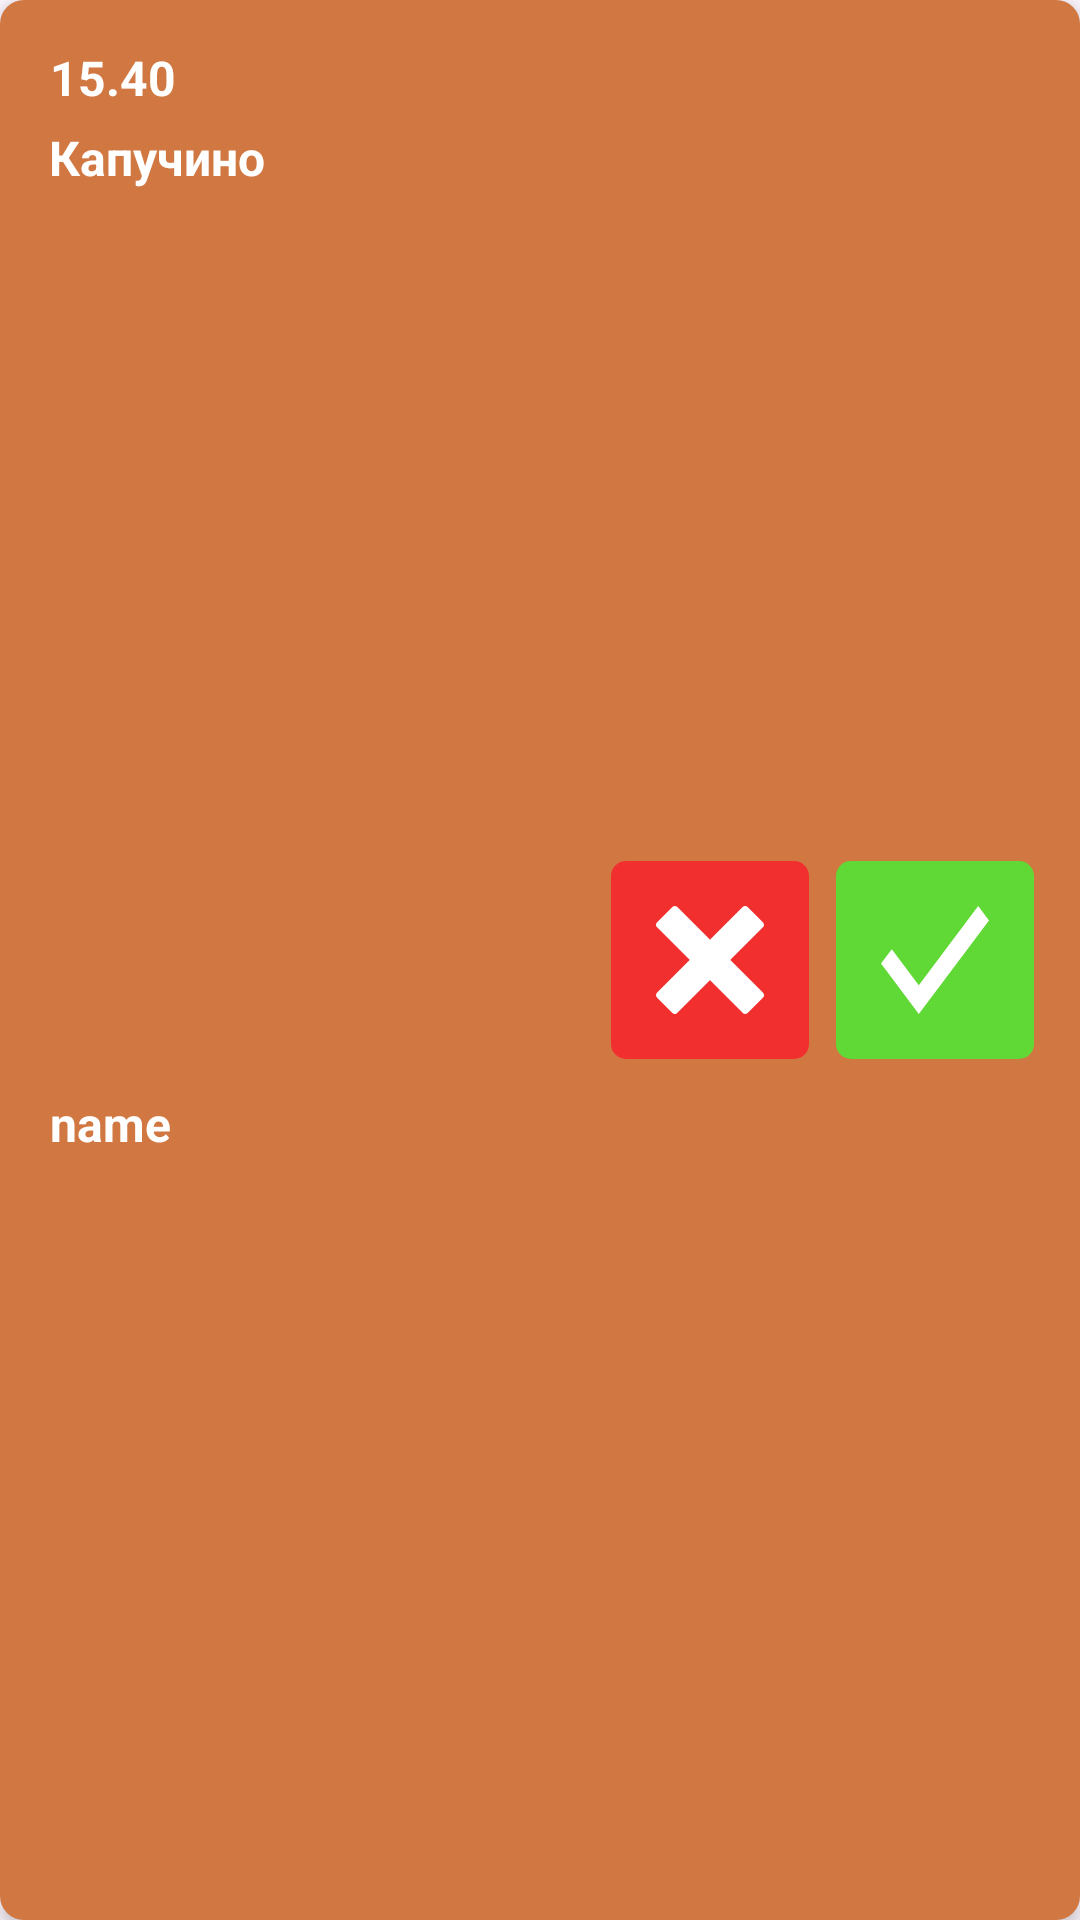

Where icons sit on this 1080px x 1920px app screen, as bbox=[x1, y1, x2, y2]:
check mark: bbox=[881, 906, 989, 1014]
cross: bbox=[656, 906, 764, 1014]
